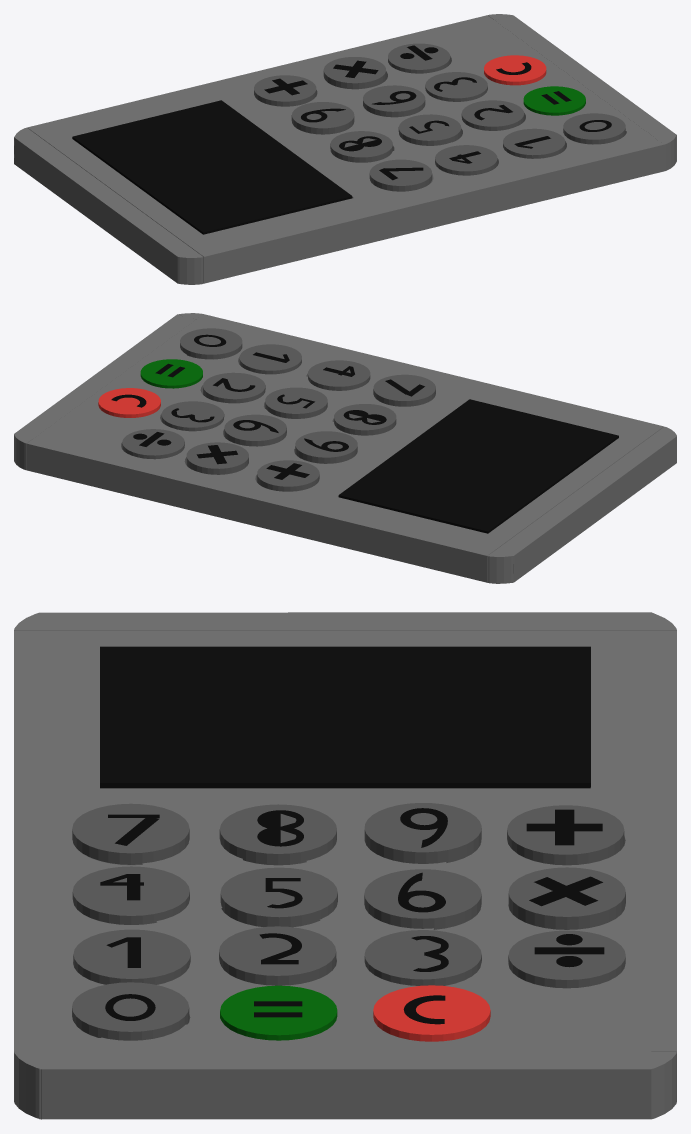
File: calculator.2.fbx
3 renders of one model, top to bottom at view 1: azimuth 30°, elevation 25°; view 2: azimuth 150°, elevation 25°; view 3: azimuth 270°, elevation 25°, orthographic. The views are drawn at different scales.
Visible parts, largest first — view 1: cast, screen, mulitply, button.9, button.7, button.001, Button.5, button.8, add.buttom, button.0, Button.2, Button.4 (+5 smaller); view 2: cast, screen, button.9, mulitply, button.7, button.001, add.buttom, button.8, Button.5, button.0, Button.2, Button.4 (+5 smaller); view 3: cast, screen, mulitply, button.9, button.7, button.8, button.001, add.buttom, Button.5, Button.2, button.0, Button.4 (+5 smaller).
Part boxes in pixels (bbox=[...]): cast: bbox=[14, 14, 676, 284]; screen: bbox=[72, 100, 352, 234]; mulitply: bbox=[323, 57, 386, 89]; button.9: bbox=[291, 102, 354, 134]; button.7: bbox=[369, 159, 432, 191]; button.001: bbox=[363, 85, 425, 117]; Button.5: bbox=[398, 114, 461, 145]; button.8: bbox=[330, 131, 392, 162]; add.buttom: bbox=[254, 75, 316, 106]; button.0: bbox=[563, 113, 625, 144]; Button.2: bbox=[461, 100, 524, 130]; Button.4: bbox=[435, 145, 497, 175]; cast: bbox=[14, 313, 676, 583]; screen: bbox=[338, 399, 618, 533]; button.9: bbox=[295, 431, 357, 463]; mulitply: bbox=[186, 442, 248, 474]; button.7: bbox=[373, 374, 435, 406]; button.001: bbox=[224, 414, 286, 446]; add.buttom: bbox=[257, 460, 319, 491]; button.8: bbox=[334, 404, 396, 435]; Button.5: bbox=[265, 387, 327, 418]; button.0: bbox=[180, 328, 242, 359]; Button.2: bbox=[203, 372, 265, 403]; Button.4: bbox=[308, 360, 370, 390]; cast: bbox=[14, 612, 676, 1119]; screen: bbox=[100, 646, 590, 788]; mulitply: bbox=[508, 867, 625, 929]; button.9: bbox=[364, 803, 481, 863]; button.7: bbox=[72, 803, 189, 864]; button.8: bbox=[219, 804, 336, 865]; button.001: bbox=[364, 869, 481, 929]; add.buttom: bbox=[507, 805, 624, 865]; Button.5: bbox=[220, 867, 337, 927]; Button.2: bbox=[219, 926, 336, 985]; button.0: bbox=[72, 982, 189, 1040]; Button.4: bbox=[72, 866, 189, 924].
Bounding box in the file's own units: 24.46 × 1.58 × 14.99.
